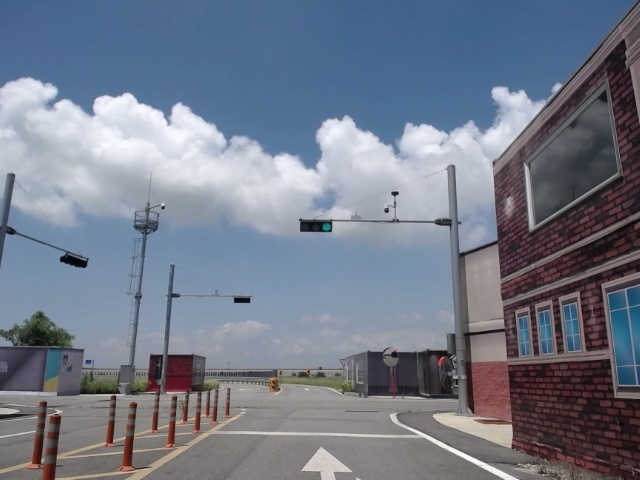green_3: (300, 221, 331, 231)
